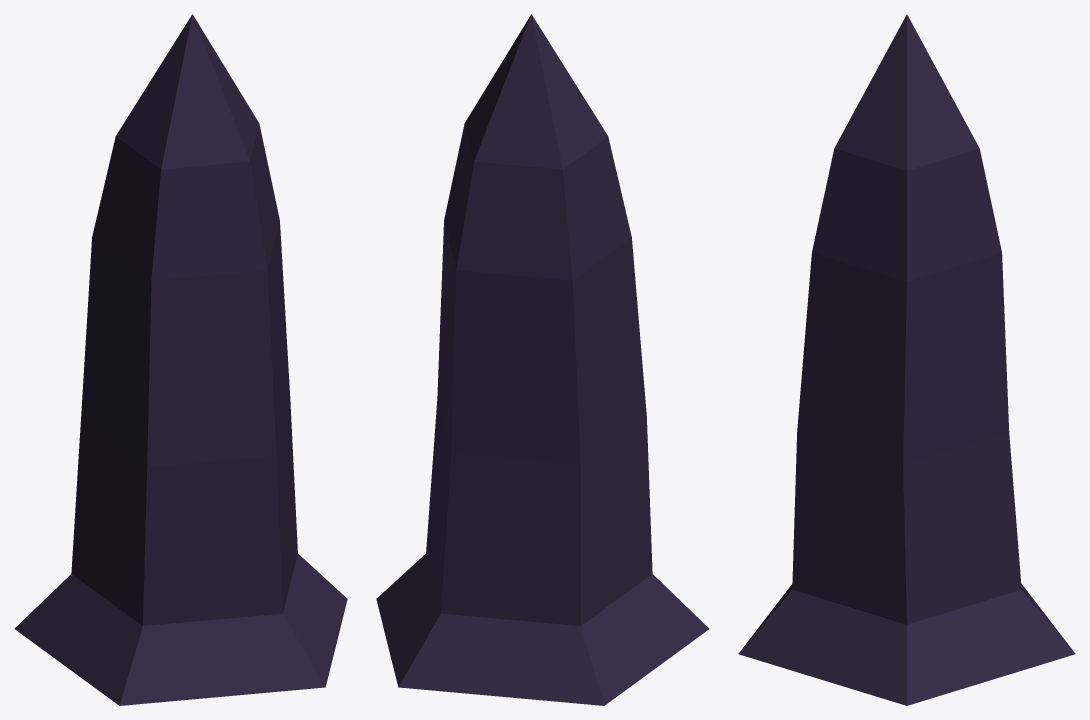
File: stag.dae
The picture shows the model from 3 angles, left to right: view 1: azimuth 30°, elevation 25°; view 2: azimuth 150°, elevation 25°; view 3: azimuth 270°, elevation 25°; orthographic projection.
Parts seen in each view (by area): view 1: stagemite; view 2: stagemite; view 3: stagemite.
Boxes of the visible parts, <box> form: stagemite: <box>14,14,347,705</box>; stagemite: <box>376,14,709,705</box>; stagemite: <box>738,14,1075,705</box>.
Size of what is drawn, in the model's own units: 1.47 by 1.54 by 3.11.
